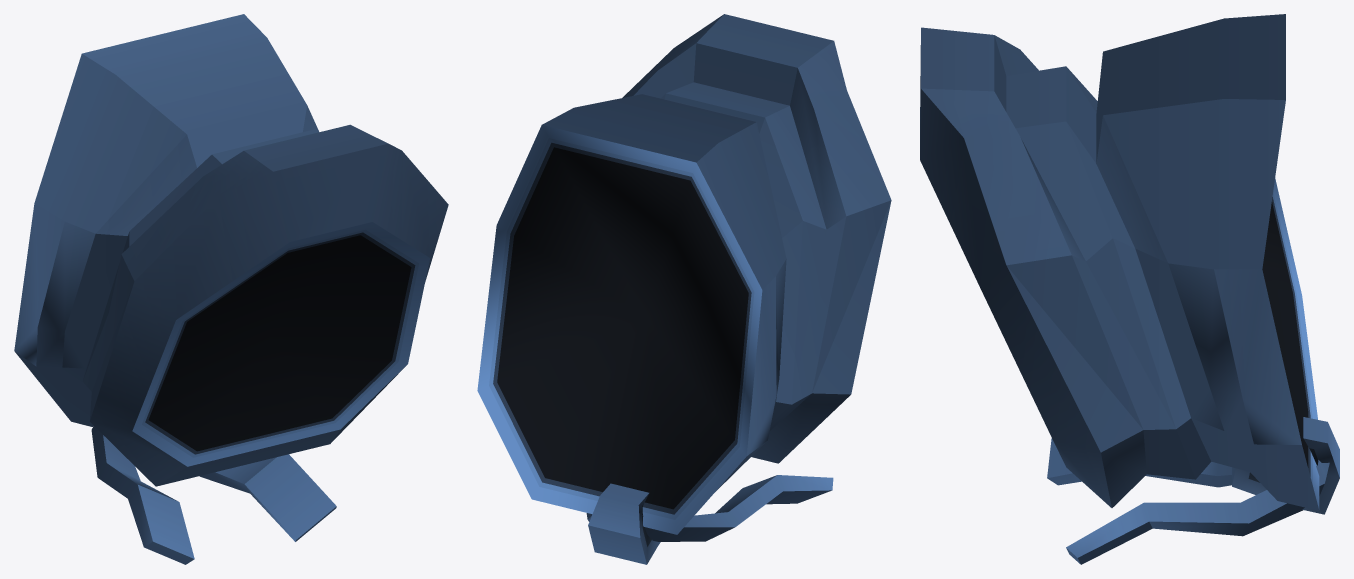
Rendered from FaceMask_M.glb.
The picture shows the model from 3 angles, left to right: view 1: azimuth 30°, elevation 25°; view 2: azimuth 150°, elevation 25°; view 3: azimuth 270°, elevation 25°; orthographic projection. The views are drawn at different scales.
Visible parts, largest first — view 1: FaceMask_M_NeckWrap, FaceMask_M; view 2: FaceMask_M, FaceMask_M_NeckWrap; view 3: FaceMask_M, FaceMask_M_NeckWrap.
Part boxes in pixels (box(x1,y1,x2,y2)): FaceMask_M_NeckWrap: box(82, 124, 448, 486); FaceMask_M: box(14, 14, 336, 564); FaceMask_M: box(477, 94, 833, 564); FaceMask_M_NeckWrap: box(622, 14, 891, 463); FaceMask_M: box(1047, 14, 1339, 564); FaceMask_M_NeckWrap: box(920, 27, 1211, 507).
Bounding box in the file's own units: 0.2204 × 0.2984 × 0.2329.
Materials: 1 (1 with a texture image).
